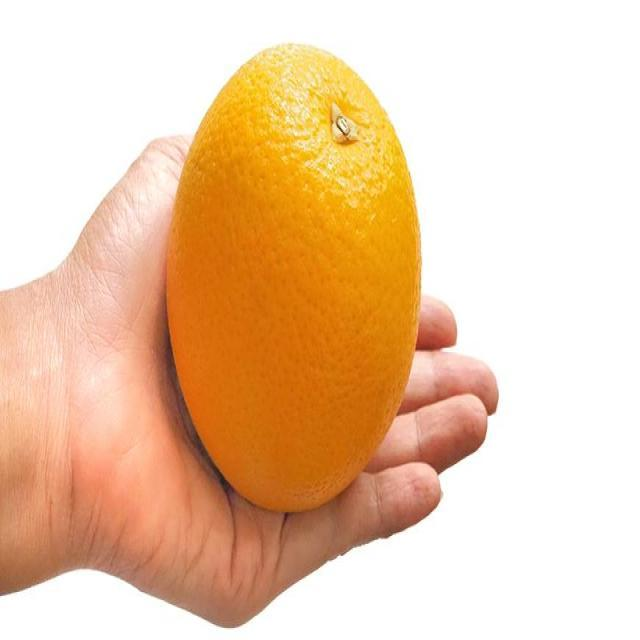Orange: (163, 40, 423, 513)
